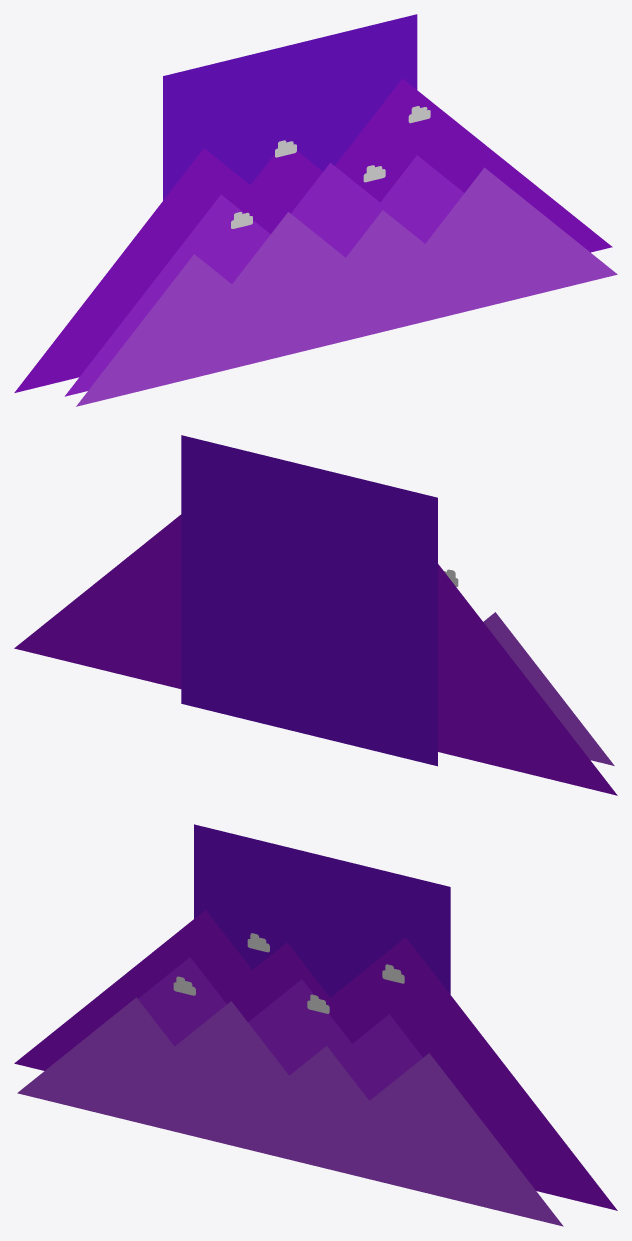
Rendered from background-purple.glb.
3 views of the same model, one above another, from view 1: azimuth 30°, elevation 25°; view 2: azimuth 150°, elevation 25°; view 3: azimuth 330°, elevation 25° (orthographic).
Visible parts, largest first — view 1: Background-2, Background-4, Background-5, Background-3, Clouds; view 2: Background-5, Background-4, Background-2; view 3: Background-2, Background-4, Background-5, Background-3, Clouds.
Boxes of the visible parts, box(x1,y1,x2,y2) form: Background-2: box(76, 167, 617, 406); Background-4: box(14, 78, 612, 392); Background-5: box(163, 14, 417, 200); Background-3: box(64, 155, 464, 396); Clouds: box(231, 106, 430, 228); Background-5: box(181, 435, 437, 766); Background-4: box(14, 514, 617, 795); Background-2: box(483, 612, 614, 765); Background-2: box(17, 997, 563, 1226); Background-4: box(14, 910, 617, 1210); Background-5: box(194, 824, 450, 997); Background-3: box(138, 957, 422, 1100); Clouds: box(173, 933, 404, 1013).
Bounding box in the file's own units: 2.35 × 1 × 0.3.
